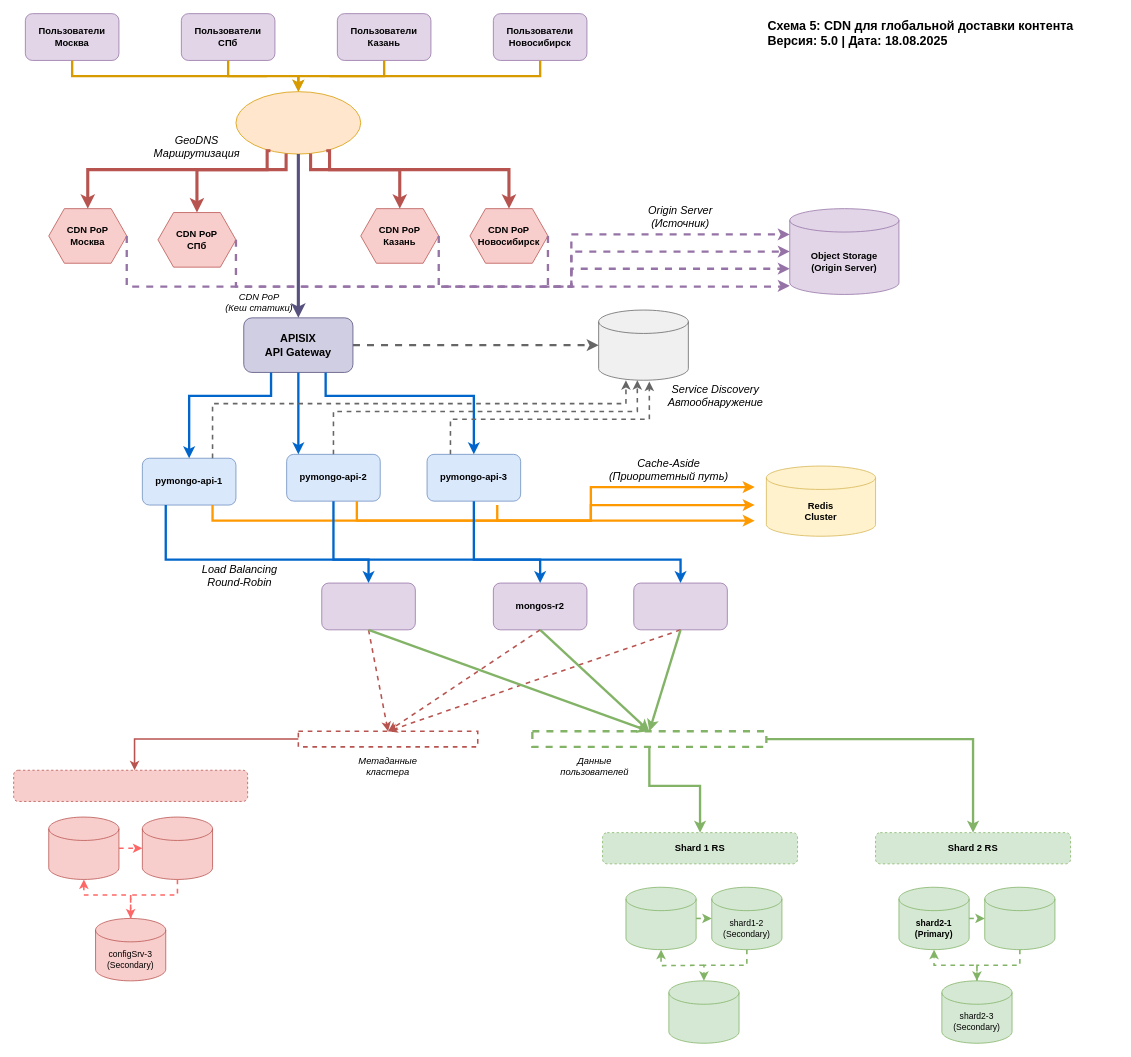
The diagram is 1131 pixels wide and 1057 high, and some of its shapes have lost their labels. Here are the shapes that lost their labels. From the top down, the centre of each, then its label:
(298,122): GeoDNS (Yandex Cloud)
(643,344): Consul Service Discovery
(368,606): mongos-r1
(680,606): mongos-r3
(130,785): Config Servers RS
(83,847): configSrv-1 (Primary)
(177,847): configSrv-2 (Secondary)
(660,918): shard1-1 (Primary)
(1019,918): shard2-2 (Secondary)
(703,1011): shard1-3 (Secondary)
